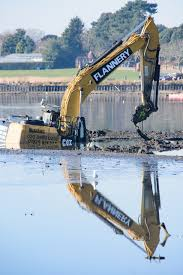excavator: (5, 17, 162, 156)
